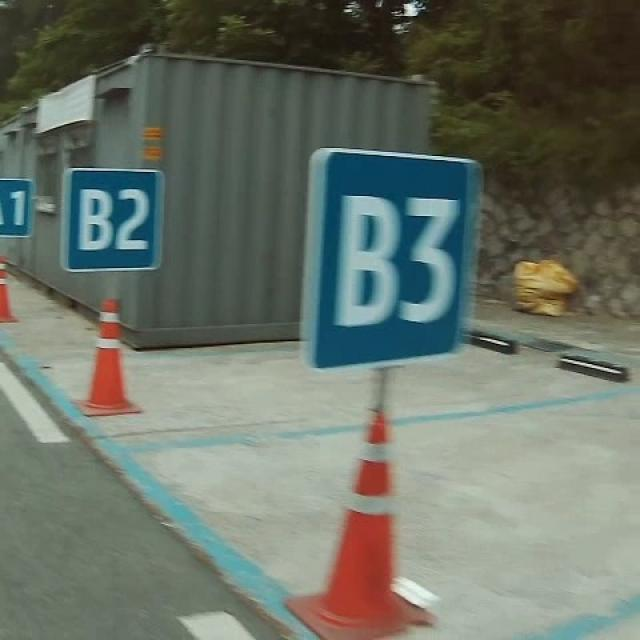b2: (59, 163, 166, 278)
b3: (297, 146, 479, 375)
